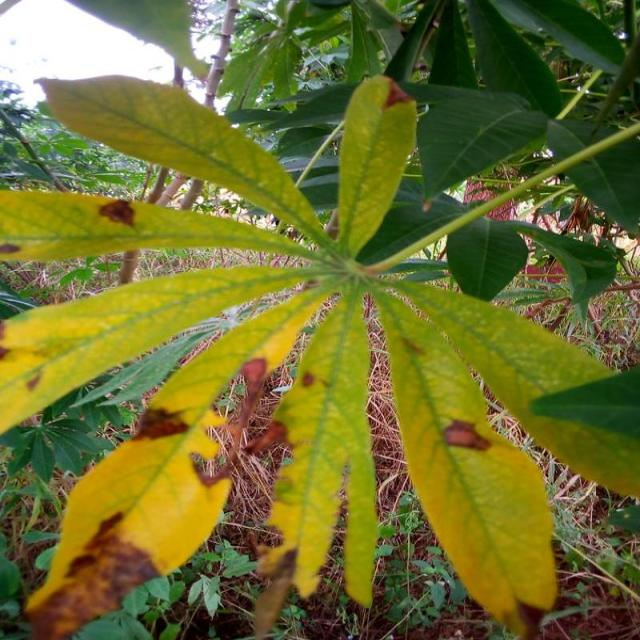cassava leaf: (1, 64, 636, 637), (371, 277, 558, 636), (33, 72, 335, 250), (260, 286, 378, 608), (335, 73, 418, 259)
